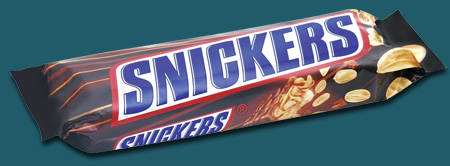snickers: (119, 14, 358, 113), (117, 19, 358, 113), (119, 110, 228, 148)
